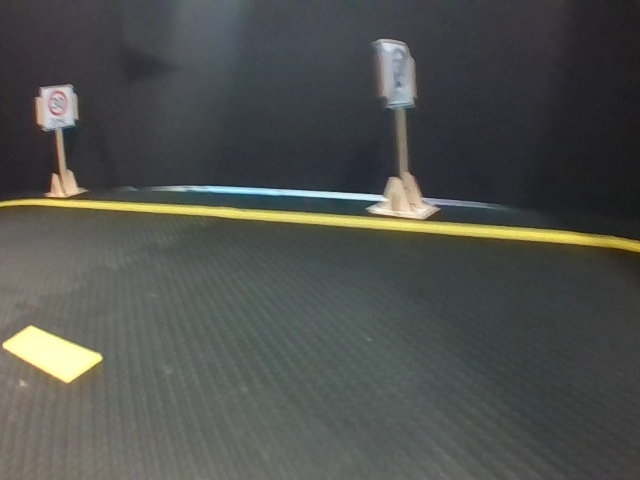30: (43, 86, 72, 126)
no30: (379, 40, 413, 105)
